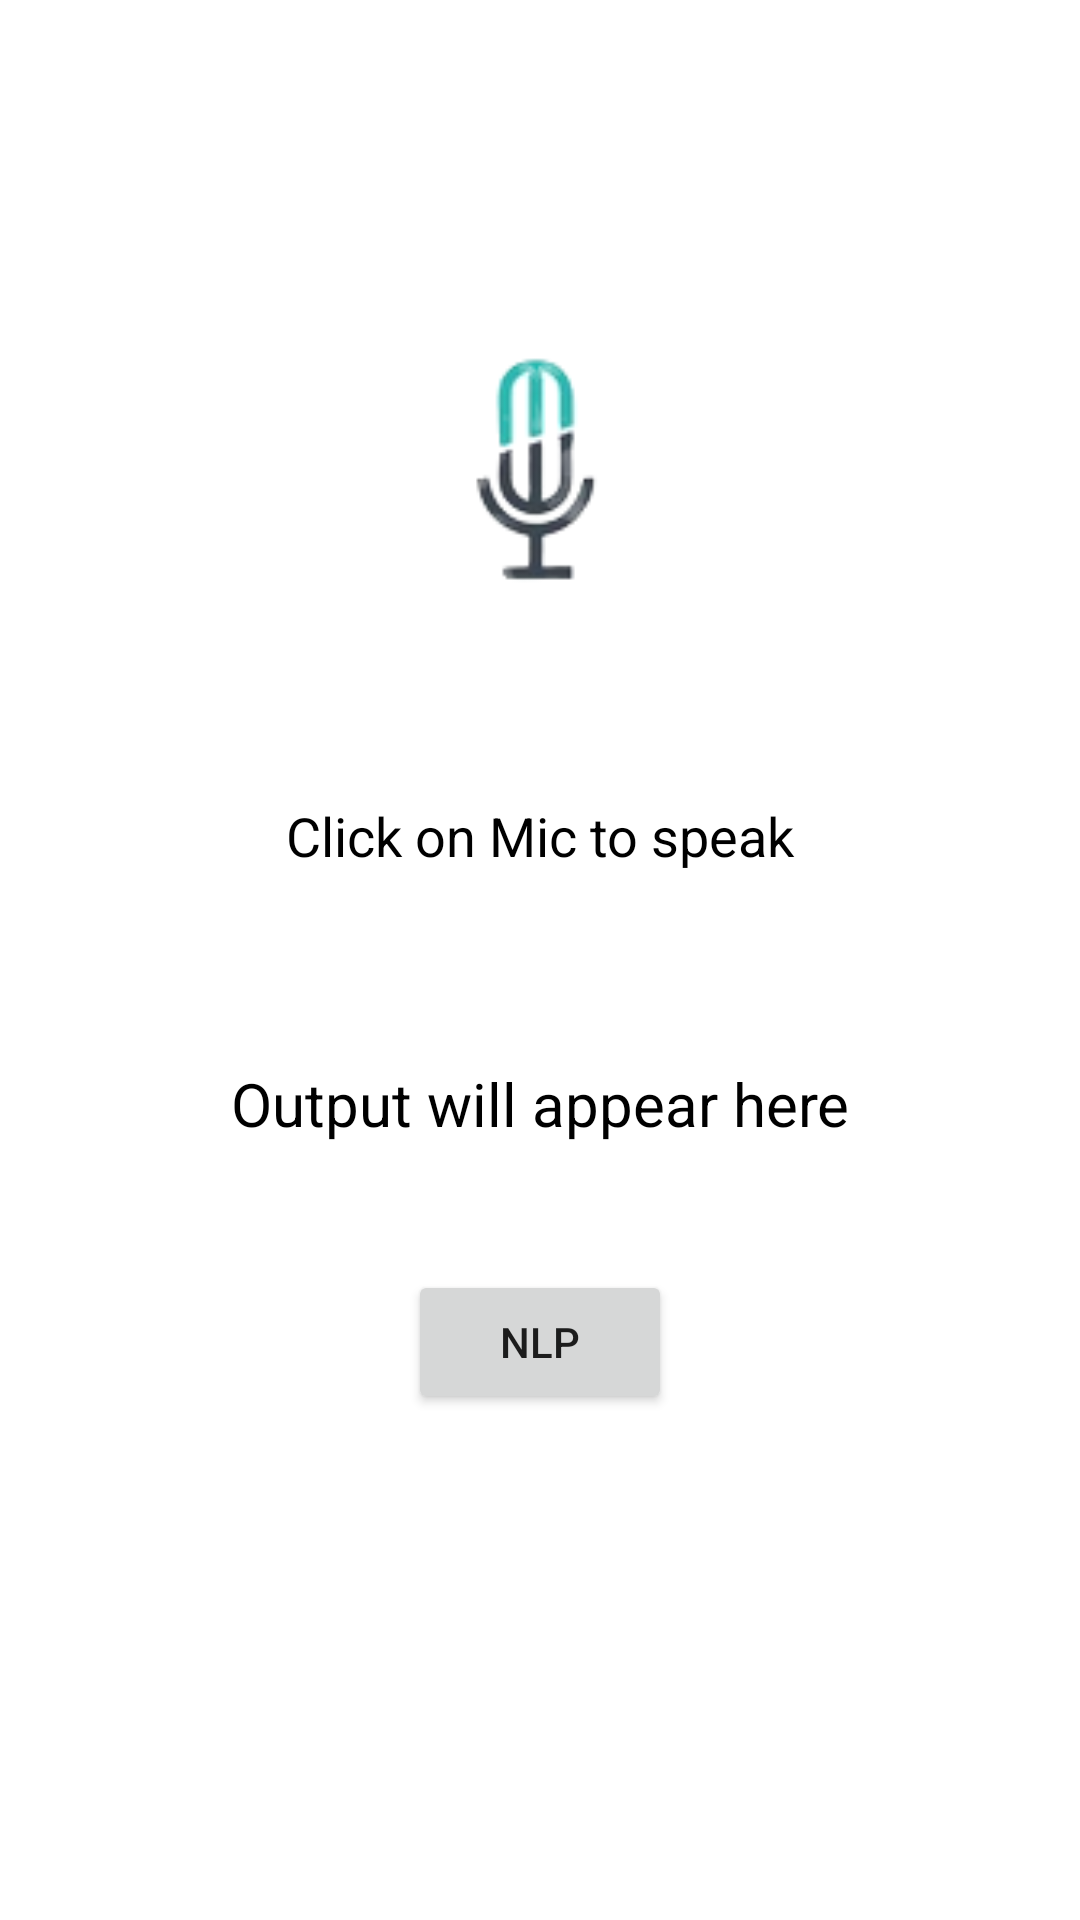

Screen size 1080px×1920px. Icon name, then its center in pixels as (x,y):
mic: (535,469)
